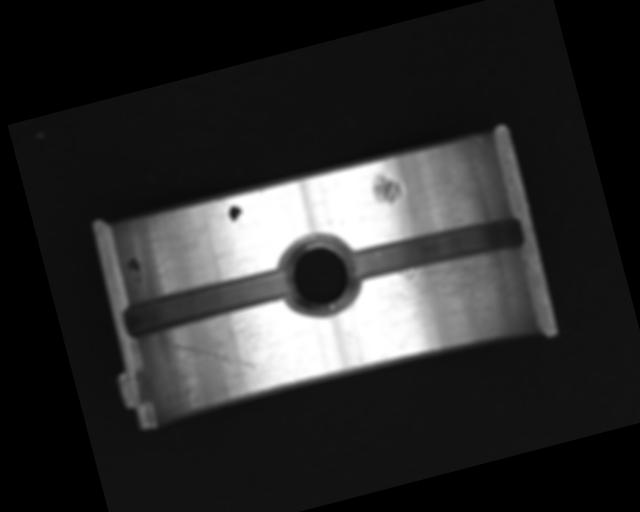blot: (124, 254, 145, 286), (225, 202, 245, 226)
bruise: (369, 169, 405, 208)
gap: (344, 207, 528, 292), (121, 263, 294, 340)
hole: (271, 227, 363, 326)
nick: (169, 323, 259, 391)
scratch: (353, 240, 529, 356)
